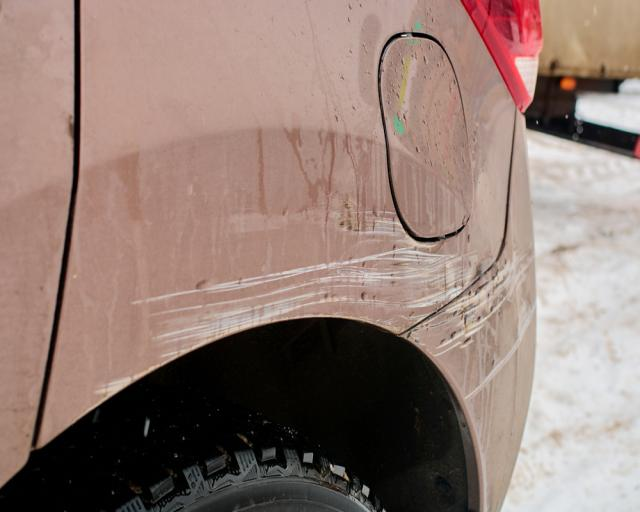scratch: (91, 209, 498, 406), (398, 247, 538, 411)
